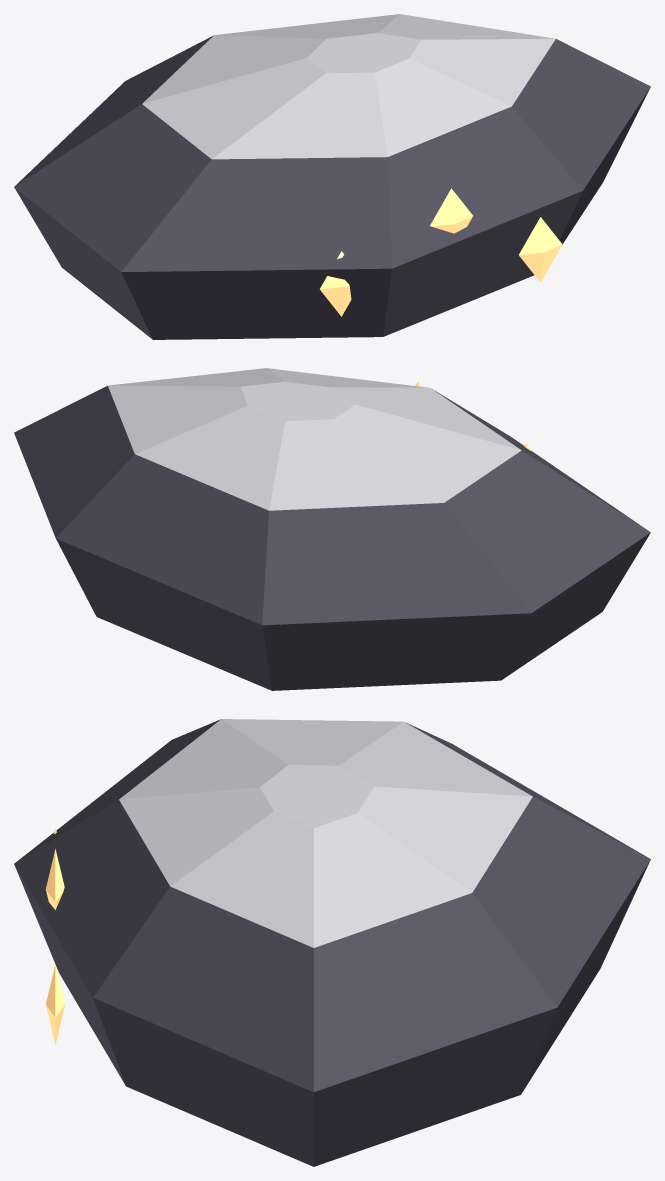
The model's file is soot-boulder.glb.
3 renders of one model, top to bottom at view 1: azimuth 30°, elevation 25°; view 2: azimuth 150°, elevation 25°; view 3: azimuth 270°, elevation 25°, orthographic. The views are drawn at different scales.
Parts seen in each view (by area): view 1: soot-boulder; view 2: soot-boulder; view 3: soot-boulder.
Boxes of the visible parts, left/top/right/bottom form: soot-boulder: left=14, top=14, right=650, bottom=339; soot-boulder: left=14, top=368, right=650, bottom=690; soot-boulder: left=14, top=719, right=650, bottom=1166.
Size of the model in its own units: 4.28 by 1.3 by 3.27.
